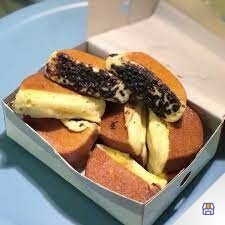pukis: (106, 42, 207, 122)
